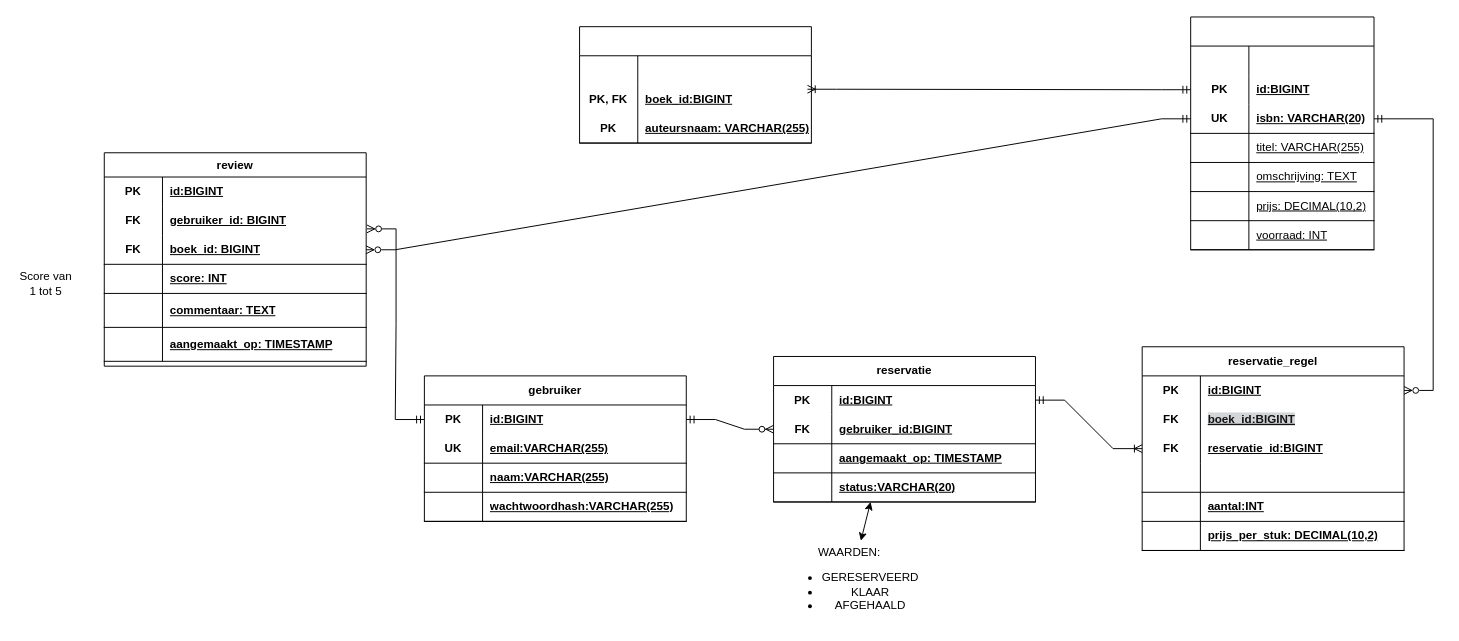
This 1459x641 diagram has some shape labels left out. Each missing label, with the box of its shape:
boek: (1190, 16, 1374, 250)
boek_auteur: (579, 26, 811, 143)
